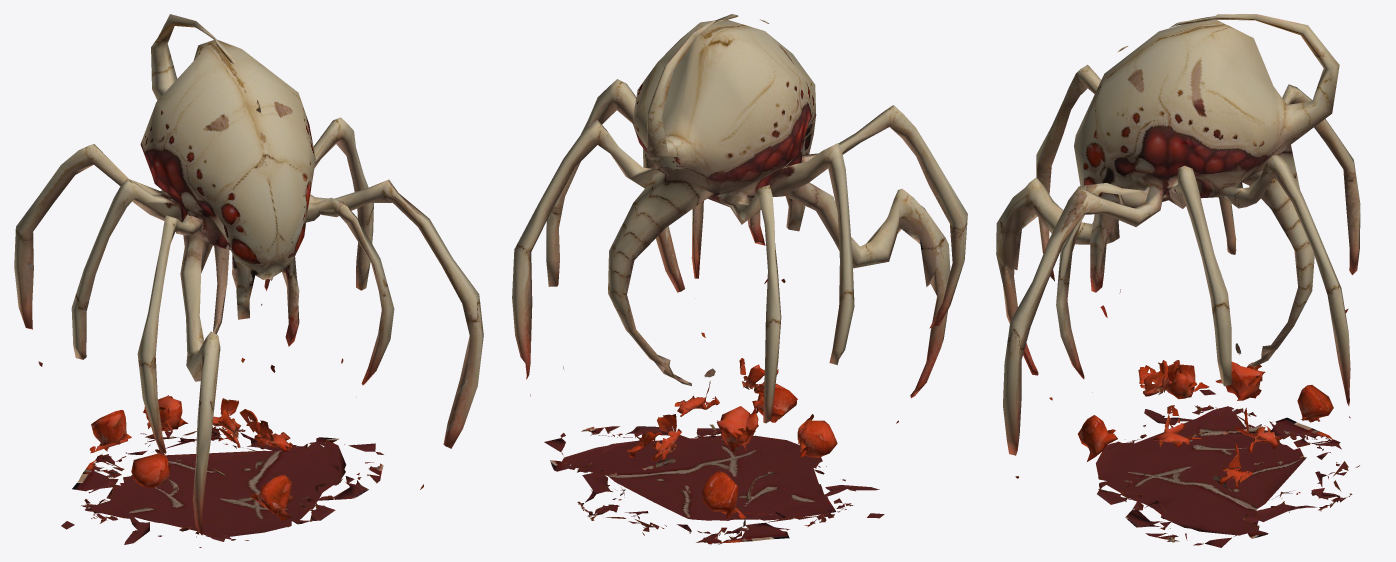
Rendered from Spawning_001.glb.
3 renders of one model, left to right at view 1: azimuth 30°, elevation 25°; view 2: azimuth 150°, elevation 25°; view 3: azimuth 270°, elevation 25°, orthographic. The views are drawn at different scales.
Parts seen in each view (by area): view 1: tripo_node_0de1df8e-cc24-4a37-879e-20cdf81cbbd3; view 2: tripo_node_0de1df8e-cc24-4a37-879e-20cdf81cbbd3; view 3: tripo_node_0de1df8e-cc24-4a37-879e-20cdf81cbbd3.
Part boxes in pixels (left/top/right/bottom): tripo_node_0de1df8e-cc24-4a37-879e-20cdf81cbbd3: left=14, top=14, right=483, bottom=547; tripo_node_0de1df8e-cc24-4a37-879e-20cdf81cbbd3: left=512, top=14, right=967, bottom=544; tripo_node_0de1df8e-cc24-4a37-879e-20cdf81cbbd3: left=996, top=14, right=1360, bottom=547.
Size of the model in its own units: 0.7555 by 1 by 0.762.
1 material, 1 textured.
